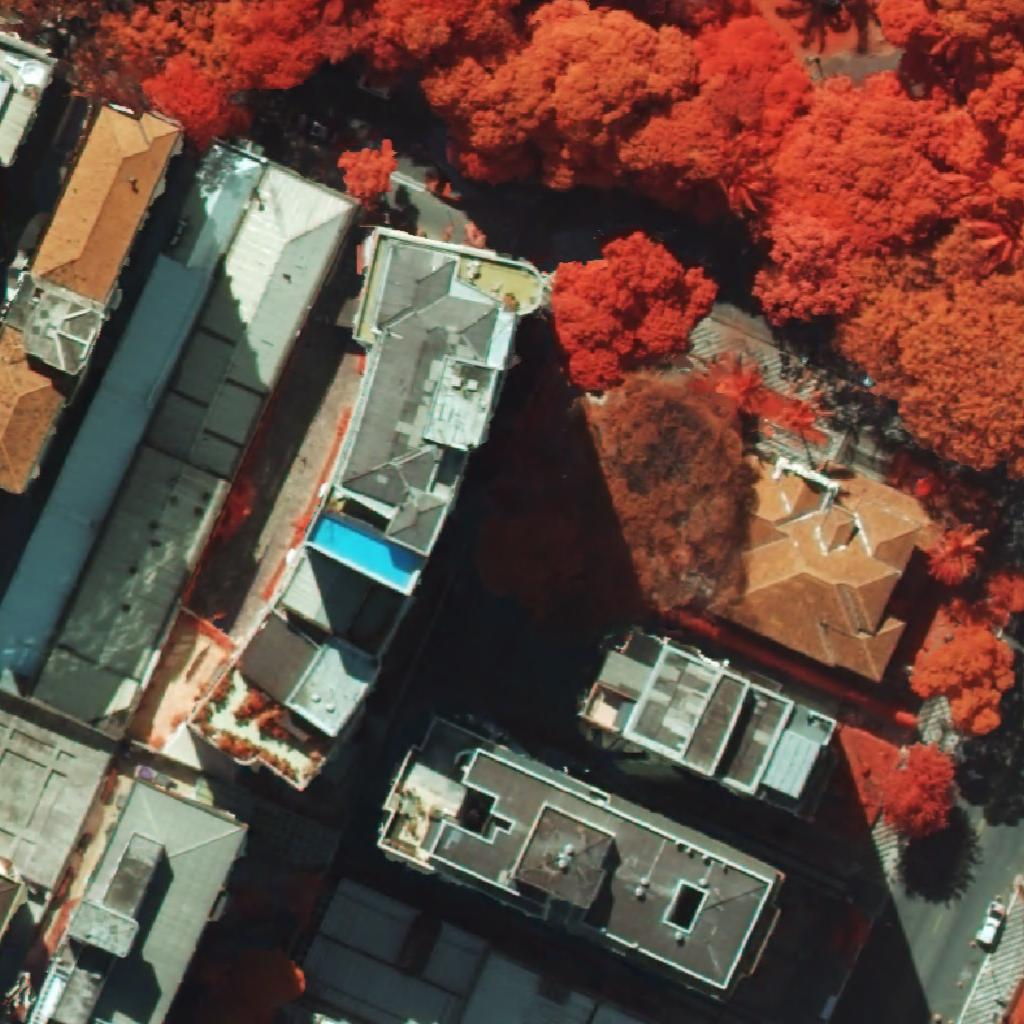pool: (309, 514, 421, 589)
